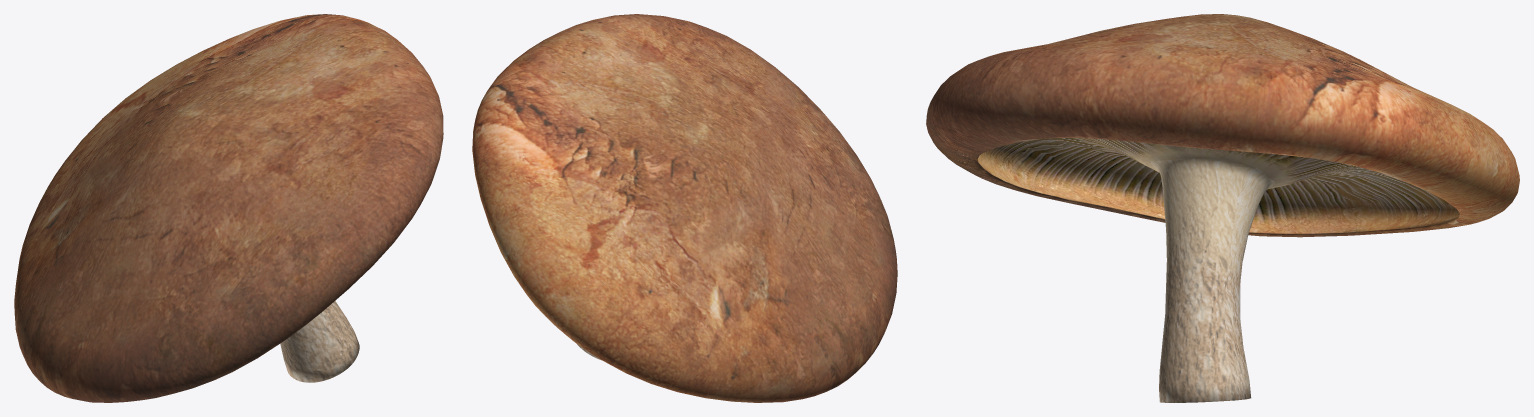
The model's file is MushroomShiitake.obj.
The picture shows the model from 3 angles, left to right: view 1: azimuth 30°, elevation 25°; view 2: azimuth 150°, elevation 25°; view 3: azimuth 270°, elevation 25°; orthographic projection. The views are drawn at different scales.
Parts seen in each view (by area): view 1: MushroomShiitake; view 2: MushroomShiitake; view 3: MushroomShiitake.
Part boxes in pixels (x1,y1,x2,y2): MushroomShiitake: (14,14,443,402); MushroomShiitake: (472,14,897,402); MushroomShiitake: (926,14,1519,402).
Bounding box in the file's own units: 4.66 × 3.93 × 5.49.
